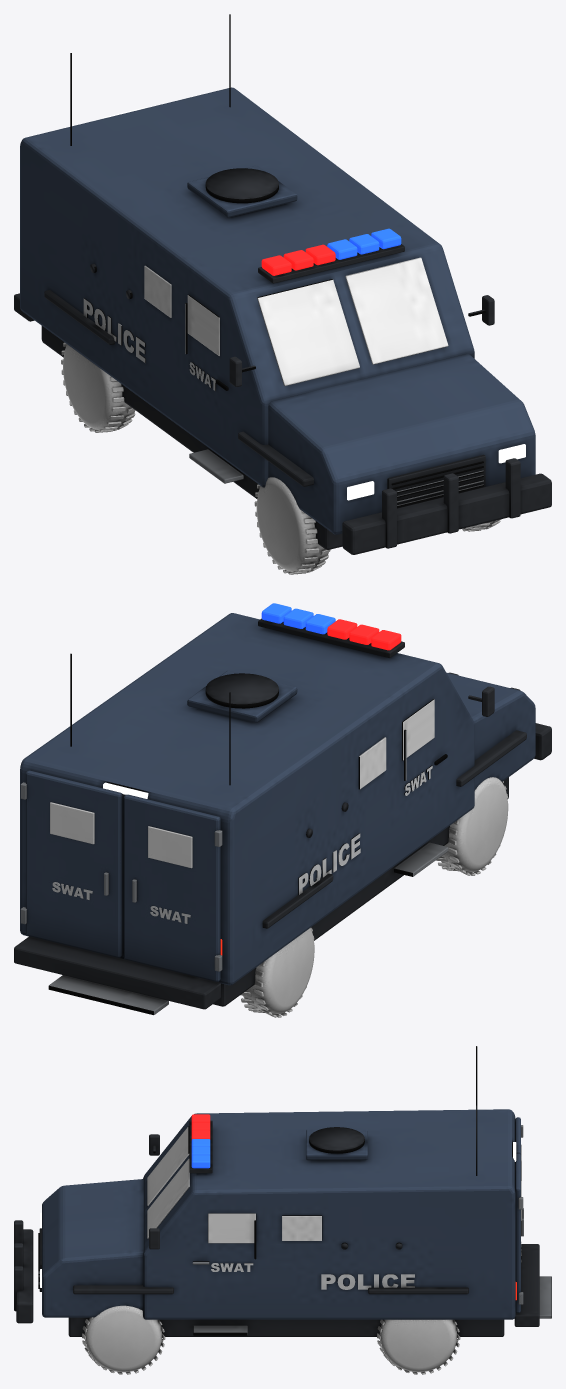
The model's file is swat_truck.glb.
The picture shows the model from 3 angles, top to bottom: view 1: azimuth 30°, elevation 25°; view 2: azimuth 150°, elevation 25°; view 3: azimuth 270°, elevation 25°; orthographic projection. The views are drawn at different scales.
Visible parts, largest first — view 1: body, wheel_fl, wheel_rl; view 2: body, door_r, door_l, wheel_fl, wheel_rl; view 3: body, wheel_fr, wheel_rr, door_r.
Boxes of the visible parts, left/top/right/bottom form: body: left=14, top=14, right=551, bottom=554; wheel_fl: left=254, top=477, right=330, bottom=574; wheel_rl: left=61, top=342, right=135, bottom=432; body: left=14, top=603, right=551, bottom=1015; door_r: left=20, top=770, right=122, bottom=957; door_l: left=124, top=794, right=222, bottom=981; wheel_fl: left=436, top=777, right=508, bottom=875; wheel_rl: left=240, top=927, right=314, bottom=1017; body: left=14, top=1046, right=551, bottom=1336; wheel_fr: left=82, top=1305, right=165, bottom=1374; wheel_rr: left=377, top=1319, right=460, bottom=1374; door_r: left=515, top=1153, right=523, bottom=1312.
Size of the model in its own units: 2.94 by 3.72 by 6.93.
16 materials, 11 textured.
